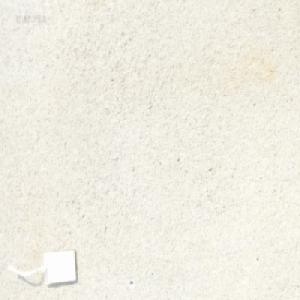LuggageTag: (16, 243, 77, 286)
